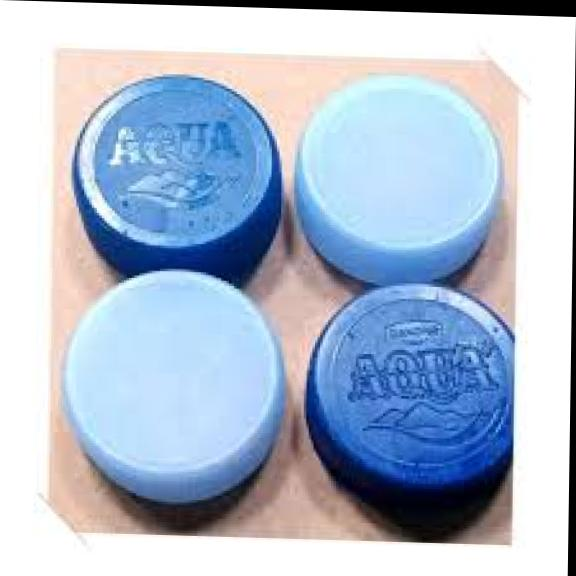Plastik: (61, 269, 289, 518), (304, 283, 515, 538), (71, 74, 284, 289), (292, 75, 504, 284)
